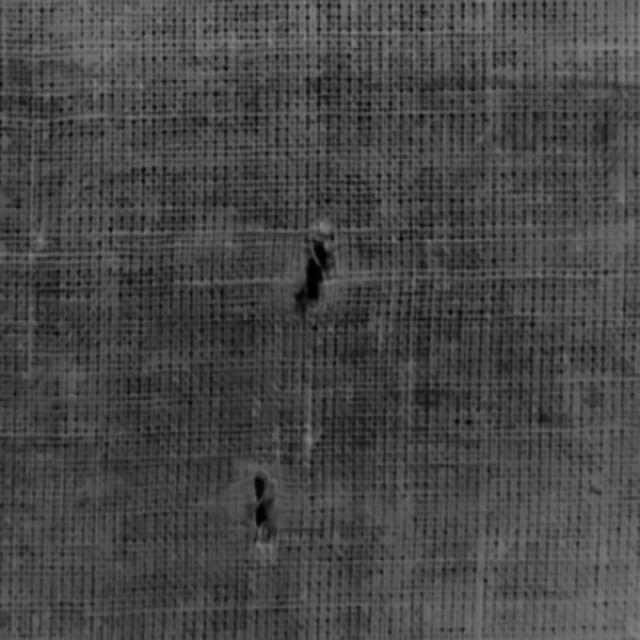other: (258, 188, 408, 374), (173, 440, 322, 598)
